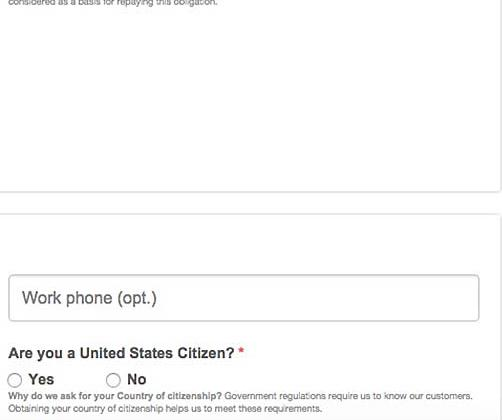field: (8, 274, 483, 323)
radio: (6, 369, 32, 393), (109, 370, 129, 391)
radio_with_label: (2, 365, 57, 397), (104, 366, 151, 396)
